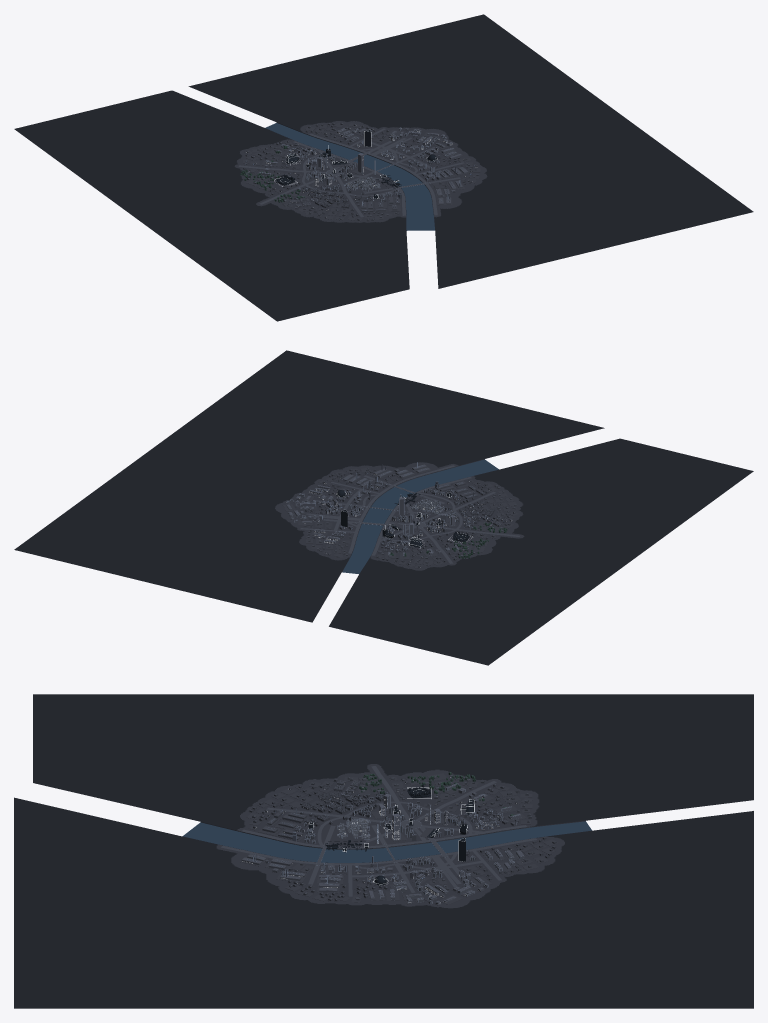
File: city.glb
3 views of the same model, one above another, from view 1: azimuth 30°, elevation 25°; view 2: azimuth 150°, elevation 25°; view 3: azimuth 270°, elevation 25° (orthographic). The views are drawn at different scales.
Visible parts, largest first — view 1: 郊野地面_东, 郊野地面_西, 城市地面, 街区pad, 河面, 干道, 描线_always_填充; view 2: 郊野地面_东, 郊野地面_西, 城市地面, 街区pad, 河面, 干道, 描线_always_填充; view 3: 郊野地面_东, 郊野地面_西, 城市地面, 街区pad, 河面, 干道, 描线_always_填充, 驳岸.
Part boxes in pixels (x1=…): 郊野地面_东: x1=188, y1=14, x2=753, y2=288; 郊野地面_西: x1=14, y1=90, x2=409, y2=321; 城市地面: x1=234, y1=121, x2=487, y2=222; 街区pad: x1=243, y1=122, x2=480, y2=221; 河面: x1=265, y1=123, x2=434, y2=230; 干道: x1=238, y1=128, x2=464, y2=217; 描线_always_填充: x1=259, y1=127, x2=452, y2=201; 郊野地面_东: x1=14, y1=350, x2=604, y2=622; 郊野地面_西: x1=329, y1=438, x2=753, y2=665; 城市地面: x1=275, y1=462, x2=524, y2=570; 街区pad: x1=282, y1=467, x2=518, y2=568; 河面: x1=342, y1=459, x2=498, y2=573; 干道: x1=300, y1=465, x2=519, y2=563; 描线_always_填充: x1=287, y1=481, x2=488, y2=555; 郊野地面_东: x1=14, y1=797, x2=753, y2=1008; 郊野地面_西: x1=33, y1=694, x2=753, y2=848; 城市地面: x1=216, y1=764, x2=564, y2=908; 街区pad: x1=240, y1=773, x2=558, y2=905; 河面: x1=182, y1=821, x2=591, y2=862; 干道: x1=221, y1=766, x2=536, y2=896; 描线_always_填充: x1=296, y1=784, x2=523, y2=903; 驳岸: x1=201, y1=820, x2=588, y2=862.
Size of what is drawn, in the model's own units: 2800 by 102 by 2787.
